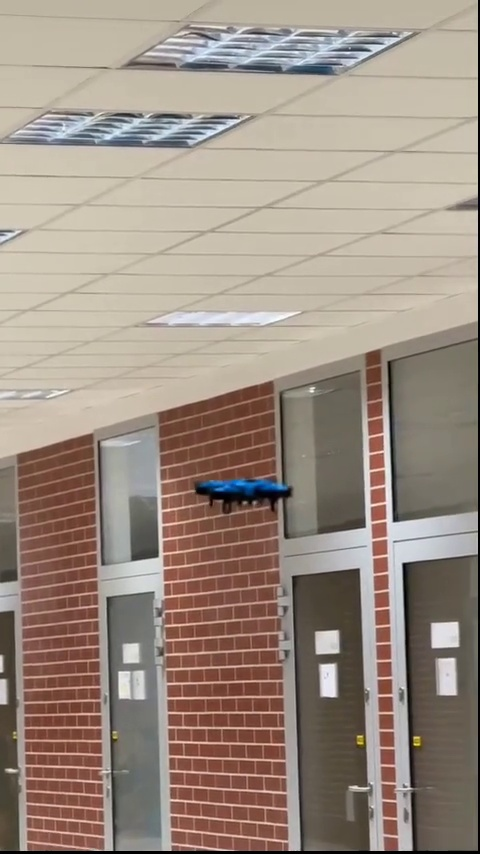drone: (198, 472, 288, 509)
